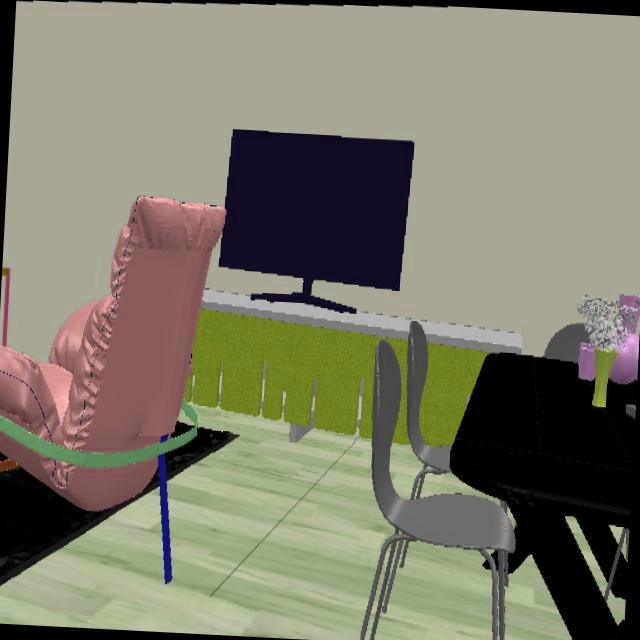cabinet: (186, 289, 411, 444), (420, 322, 522, 446)
chair: (361, 322, 516, 640)
monitor: (219, 130, 414, 312)
sofa: (0, 197, 226, 580)
table: (451, 355, 636, 640)
